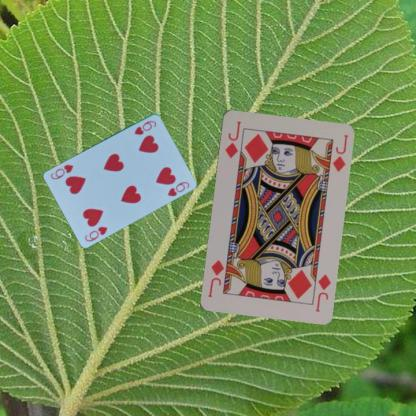6h: (82, 224, 109, 242), (132, 118, 158, 136)
Jd: (222, 118, 242, 159), (313, 271, 332, 313)
